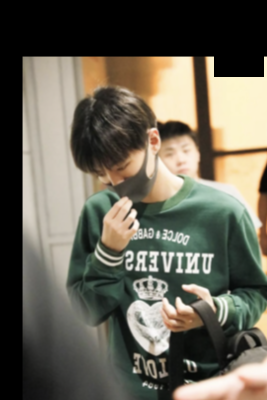with_mask: (91, 150, 150, 203)
without_mask: (157, 142, 197, 181)
